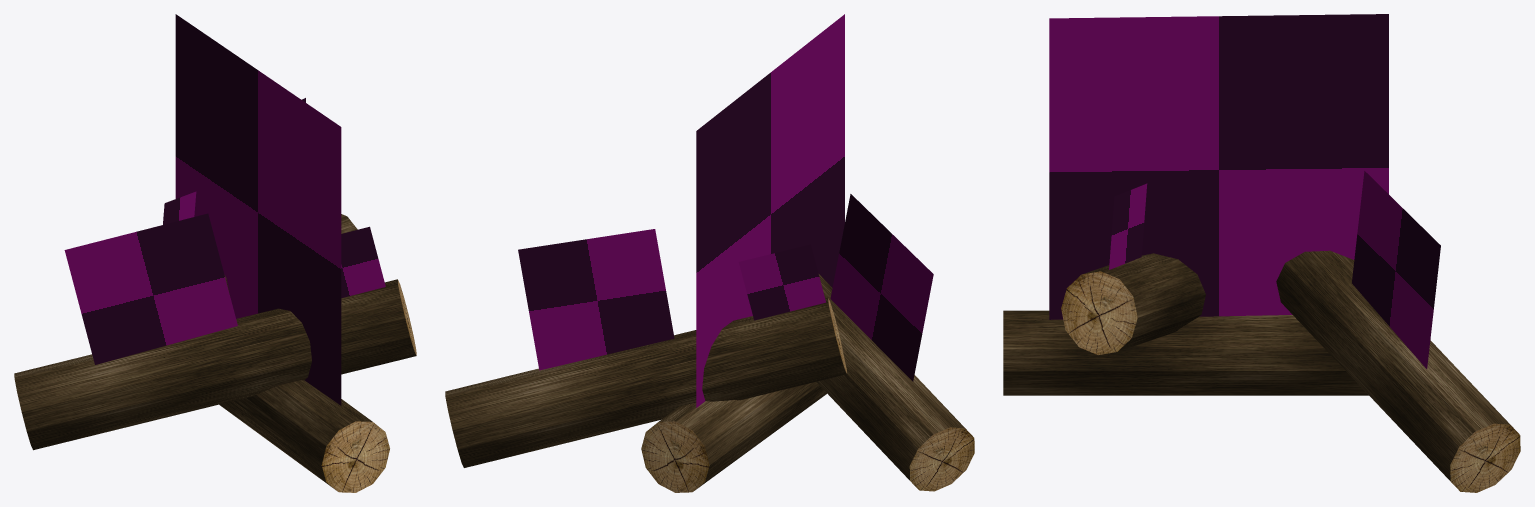
The model's file is campfire.dae.
3 renders of one model, left to right at view 1: azimuth 30°, elevation 25°; view 2: azimuth 150°, elevation 25°; view 3: azimuth 270°, elevation 25°, orthographic. The views are drawn at different scales.
Visible parts, largest first — view 1: campfire; view 2: campfire; view 3: campfire.
Part boxes in pixels (x1,y1,x2,y2): campfire: (14,14,416,492); campfire: (445,14,974,492); campfire: (1003,14,1520,492).
Size of the model in its own units: 1.26 by 1.21 by 0.9752.
Materials: 2 (2 with a texture image).
